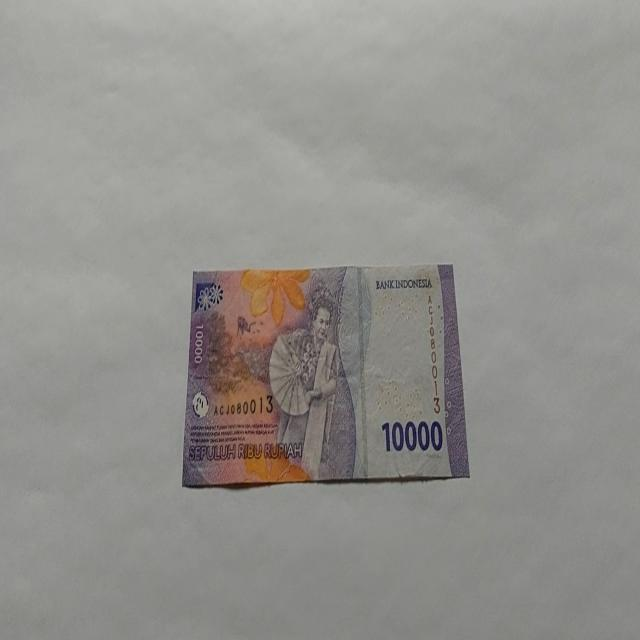sepuluh ribu rupiah: (180, 261, 470, 488), (381, 416, 444, 454)
